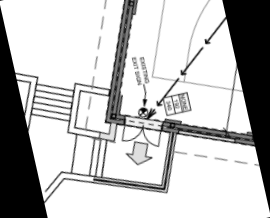double door: (116, 115, 167, 156)
wall: (58, 0, 174, 128), (154, 85, 253, 160), (99, 109, 130, 132)
